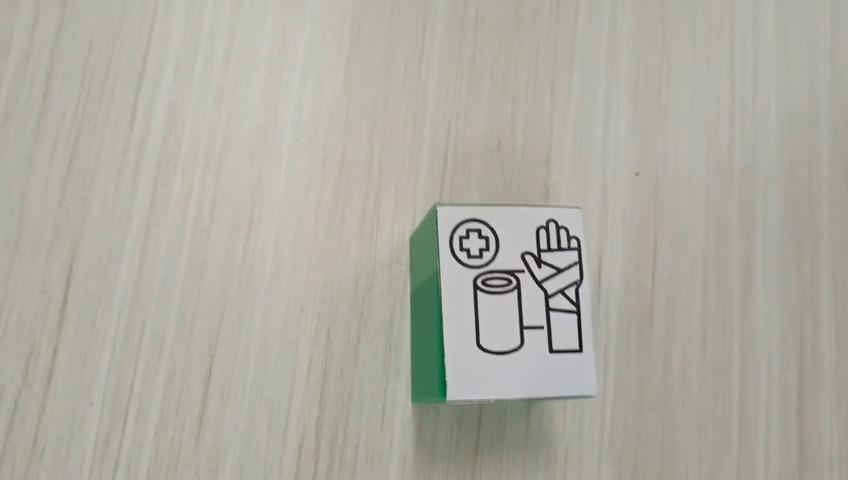Bandages: (409, 201, 597, 404)
